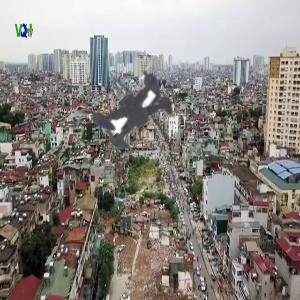drone: (43, 15, 236, 208)
